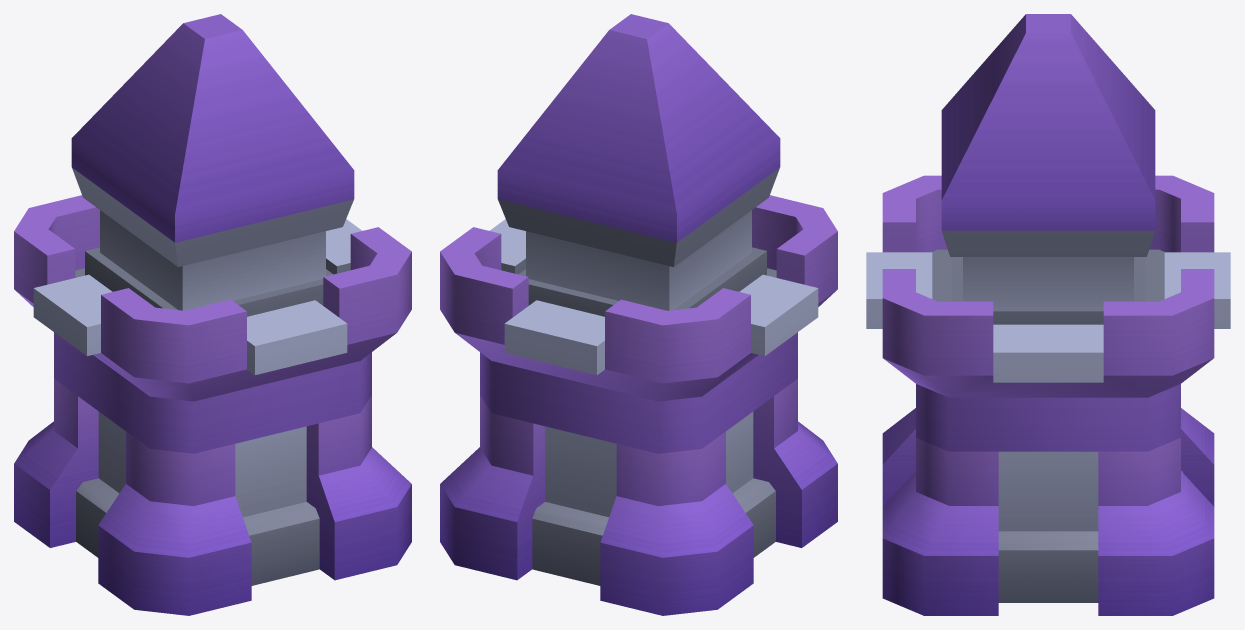
The model's file is tower-square-build-e.gltf.
The picture shows the model from 3 angles, left to right: view 1: azimuth 30°, elevation 25°; view 2: azimuth 150°, elevation 25°; view 3: azimuth 270°, elevation 25°; orthographic projection. The views are drawn at different scales.
Parts seen in each view (by area): view 1: tower-square-build-e; view 2: tower-square-build-e; view 3: tower-square-build-e.
Boxes of the visible parts, x1,y1,x2,y2 form: tower-square-build-e: [14, 14, 411, 615]; tower-square-build-e: [440, 14, 837, 615]; tower-square-build-e: [866, 14, 1230, 615].
Bounding box in the file's own units: 1.1 × 1.74 × 1.1.
1 material, 1 textured.
